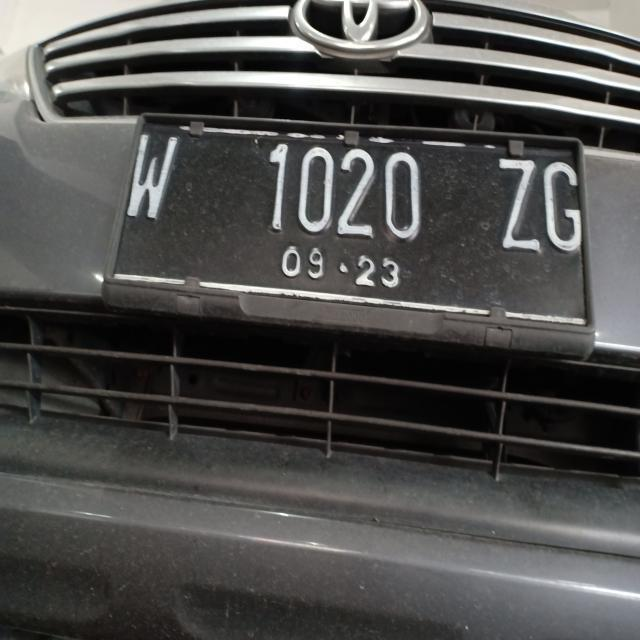0: (299, 143, 338, 239), (384, 150, 420, 244)
1: (264, 132, 293, 242)
2: (332, 147, 380, 244)
G: (543, 154, 586, 257)
W: (126, 129, 176, 223)
Z: (498, 146, 540, 256)
